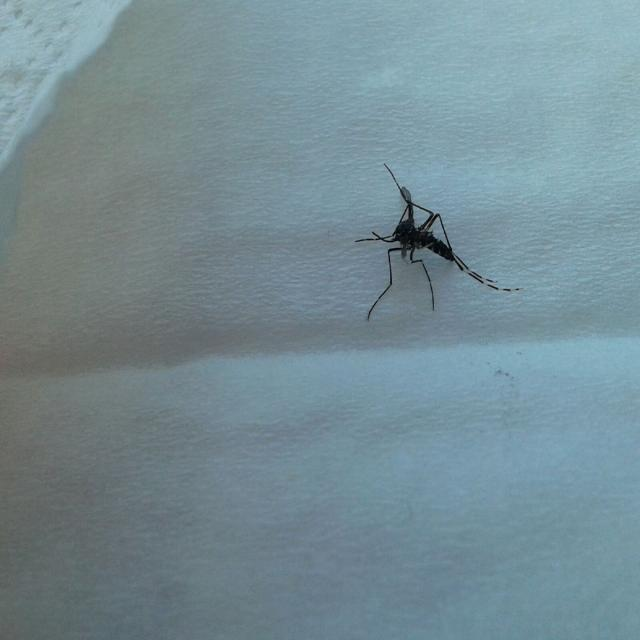albopictus: (356, 146, 520, 327)
